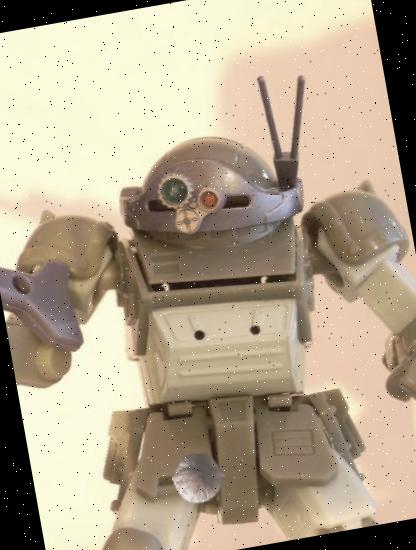Walnut: (168, 448, 228, 508)
